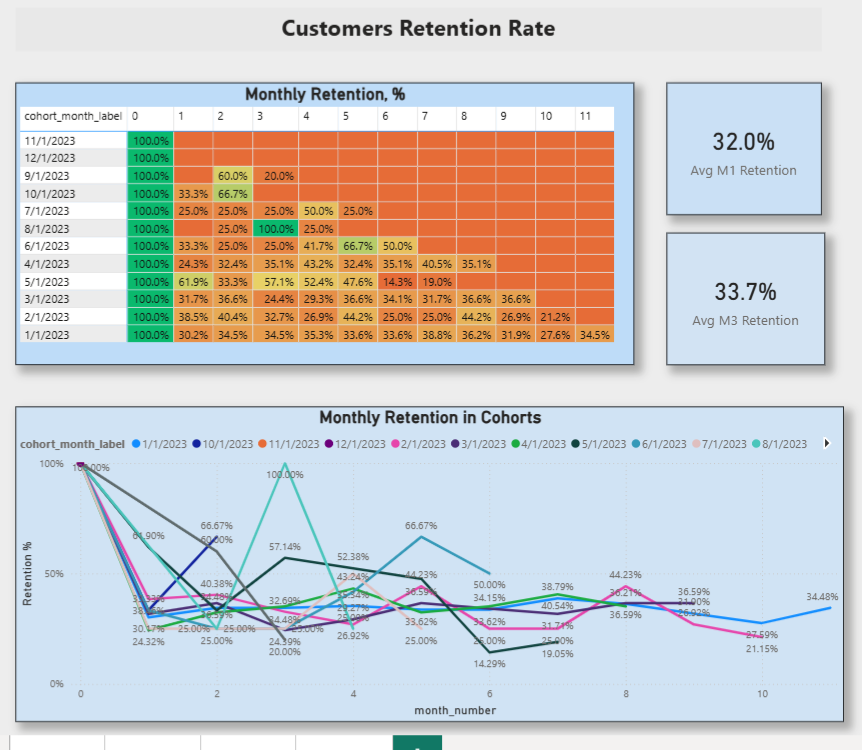

The page's visual inventory and layout, read from the dashboard file:
{"tool":"powerbi","page":{"name":"Page 4","canvas":[1200,900],"ordinal":3},"visuals":[{"type":"pivotTable","title":"Monthly Retention, %","fields":{"Rows":["active_users_per_cohort.cohort_month.Variation.Date Hierarchy.Year"],"Columns":["active_users_per_cohort.month_number"],"Values":["active_users_per_cohort.Retention %"]},"box":[102.7,123.5,736.6,336.3],"z":0},{"type":"lineChart","title":"Monthly Retention in Cohorts","fields":{"Category":["active_users_per_cohort.month_number"],"Series":["active_users_per_cohort.cohort_month"],"Y":["active_users_per_cohort.Retention %"]},"box":[102.7,508.9,986.6,375],"z":1000},{"type":"card","fields":{"Values":["active_users_per_cohort.Avg M1 Retention"]},"box":[878,123.5,184.5,157.7],"z":2000},{"type":"card","fields":{"Values":["active_users_per_cohort.Avg M3 Retention"]},"box":[878,302.1,189,157.7],"z":3000},{"type":"textbox","box":[102.7,34.2,959.8,52.1],"z":3001}]}

Visuals, with their boxes on the page's 1200x900 design canvas (x1, y1, x2, y2). These are canvas units, not pixel positions in the 862x750 screenshot, which may show the page scaled, cropped or inside an application window:
"Monthly Retention, %" pivotTable: [x1=103, y1=124, x2=839, y2=460]
"Monthly Retention in Cohorts" lineChart: [x1=103, y1=509, x2=1089, y2=884]
card - active_users_per_cohort.Avg M1 Retention: [x1=878, y1=124, x2=1062, y2=281]
card - active_users_per_cohort.Avg M3 Retention: [x1=878, y1=302, x2=1067, y2=460]
textbox: [x1=103, y1=34, x2=1062, y2=86]
